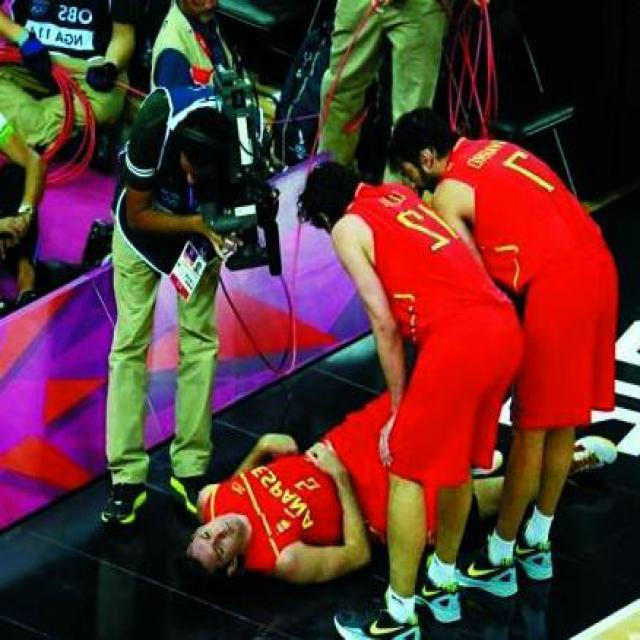fall: (186, 364, 536, 587)
